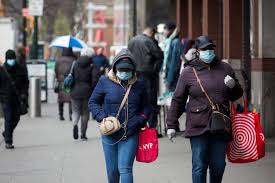mask: (200, 44, 213, 63), (117, 63, 134, 77), (6, 54, 15, 66)
